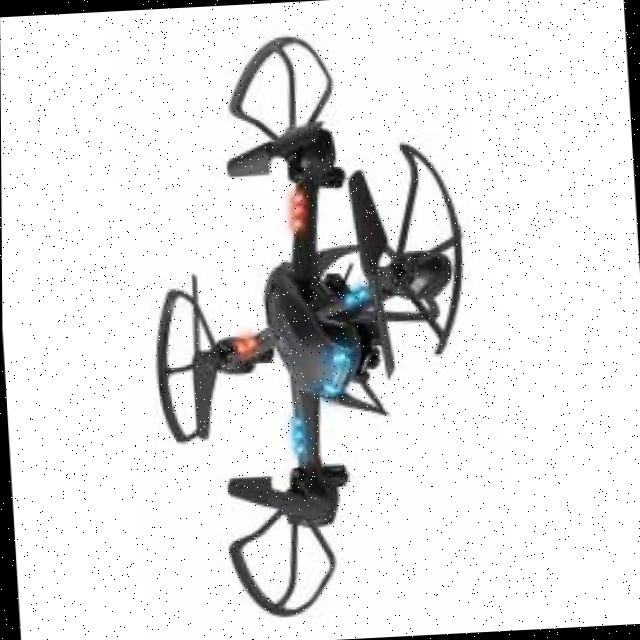drones: (116, 10, 512, 634)
